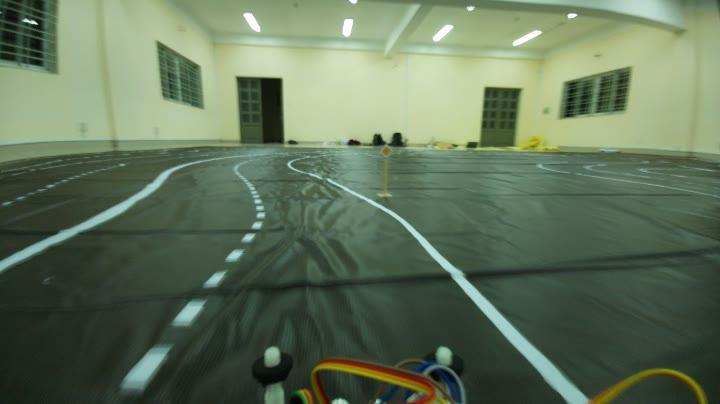priority: (378, 143, 390, 159)
